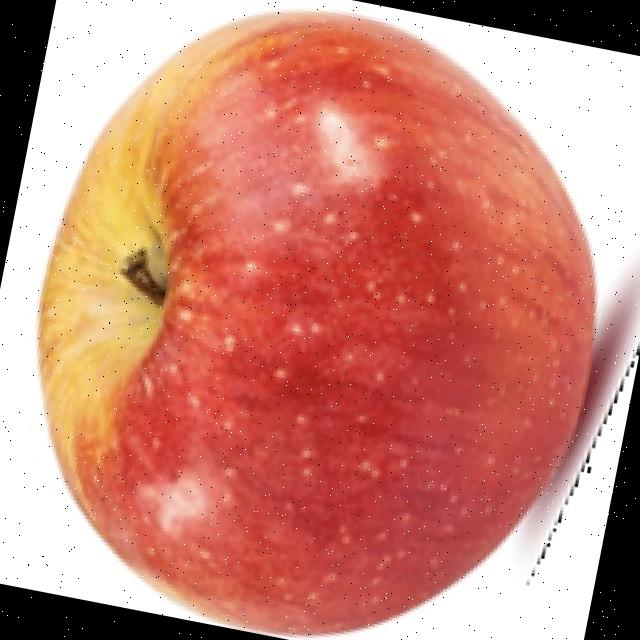apple: (31, 4, 639, 640)
